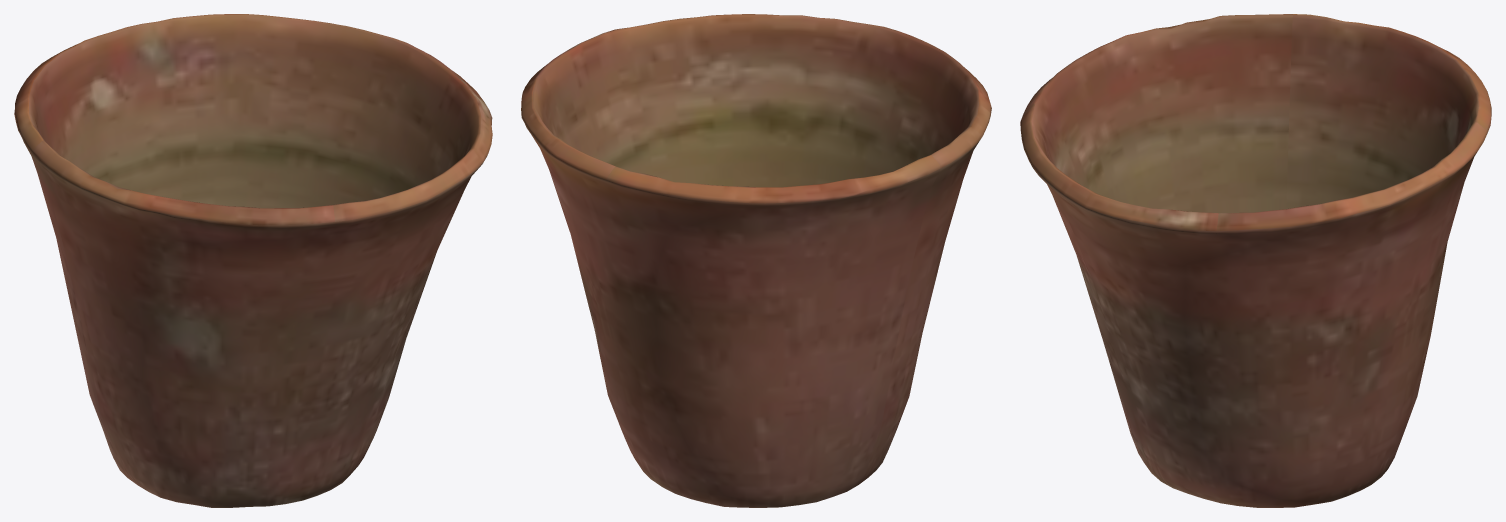
The model's file is planter_pot_clay.glb.
3 renders of one model, left to right at view 1: azimuth 30°, elevation 25°; view 2: azimuth 150°, elevation 25°; view 3: azimuth 270°, elevation 25°, orthographic.
Visible parts, largest first — view 1: planter_pot_clay; view 2: planter_pot_clay; view 3: planter_pot_clay.
Part boxes in pixels (x1,y1,x2,y2): planter_pot_clay: (14,14,492,507); planter_pot_clay: (521,14,991,507); planter_pot_clay: (1020,14,1491,507).
Size of the model in its own units: 0.266 by 0.2219 by 0.2635.
Materials: 1 (1 with a texture image).
